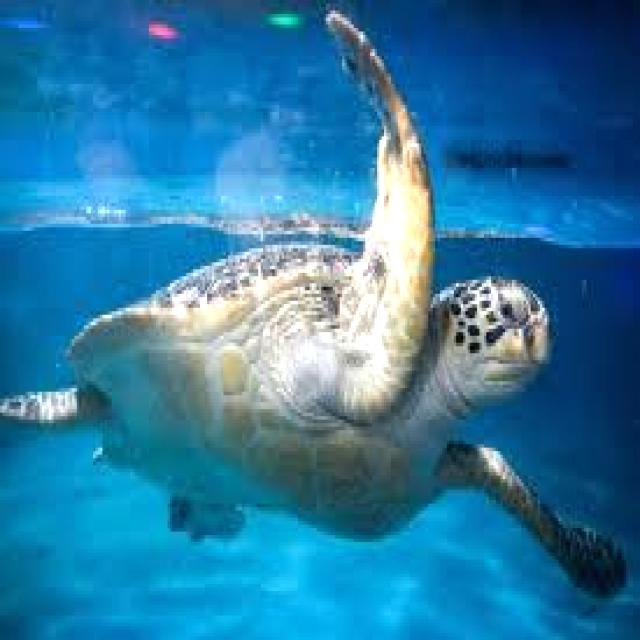Sea turtle: (9, 5, 633, 606)
